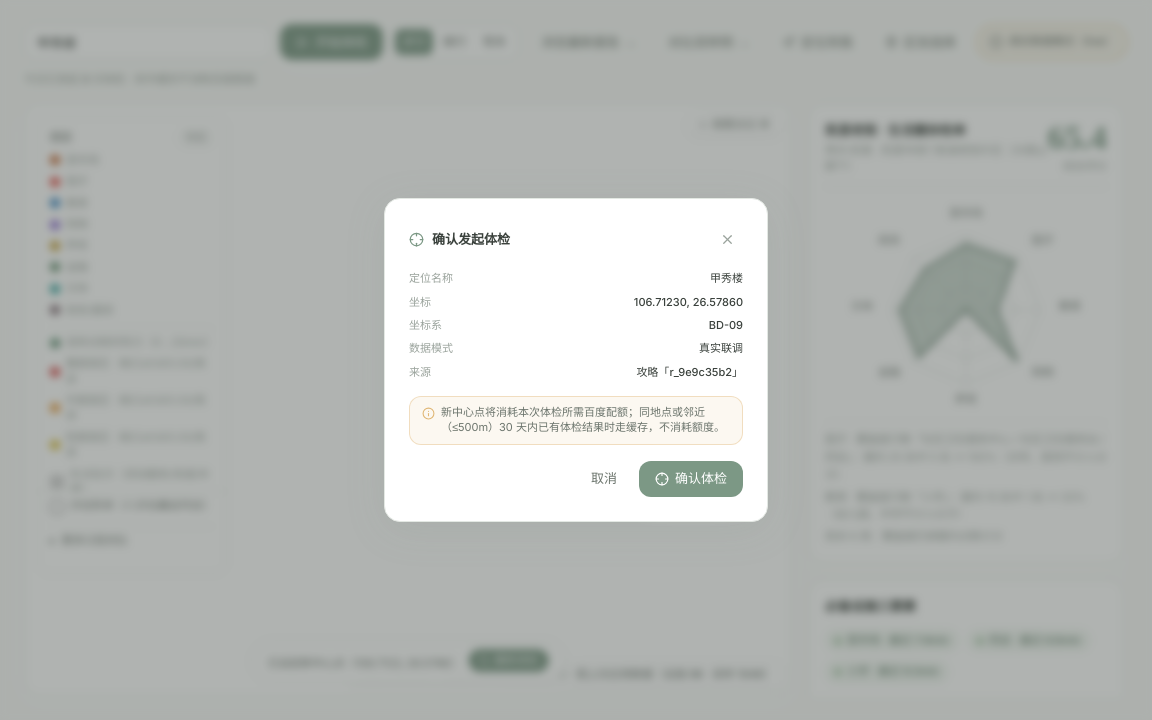
Test: 地标体检入站（state.spotCheck） › F-04：入站即弹确认框（名称/坐标/来源）、取消零建单
This screenshot has width=1152, height=720.
Expected: the dialog "确认发起体检" shows "甲秀楼", x1=710 y1=271 x2=743 y2=285
Expected: the dialog "确认发起体检" shows "106.71230", x1=634 y1=294 x2=686 y2=308
Click the button "取消" at (604, 479), box x1=577 y1=461 x2=631 y2=497
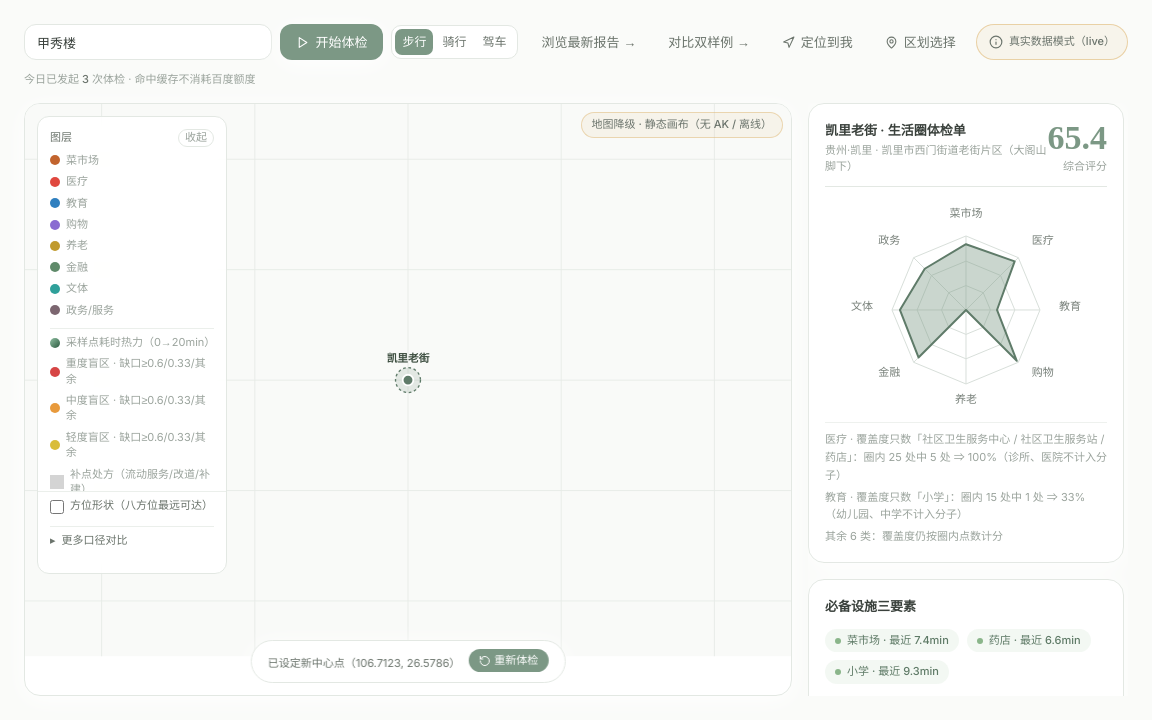
Expected: the dialog "确认发起体检" is gone
